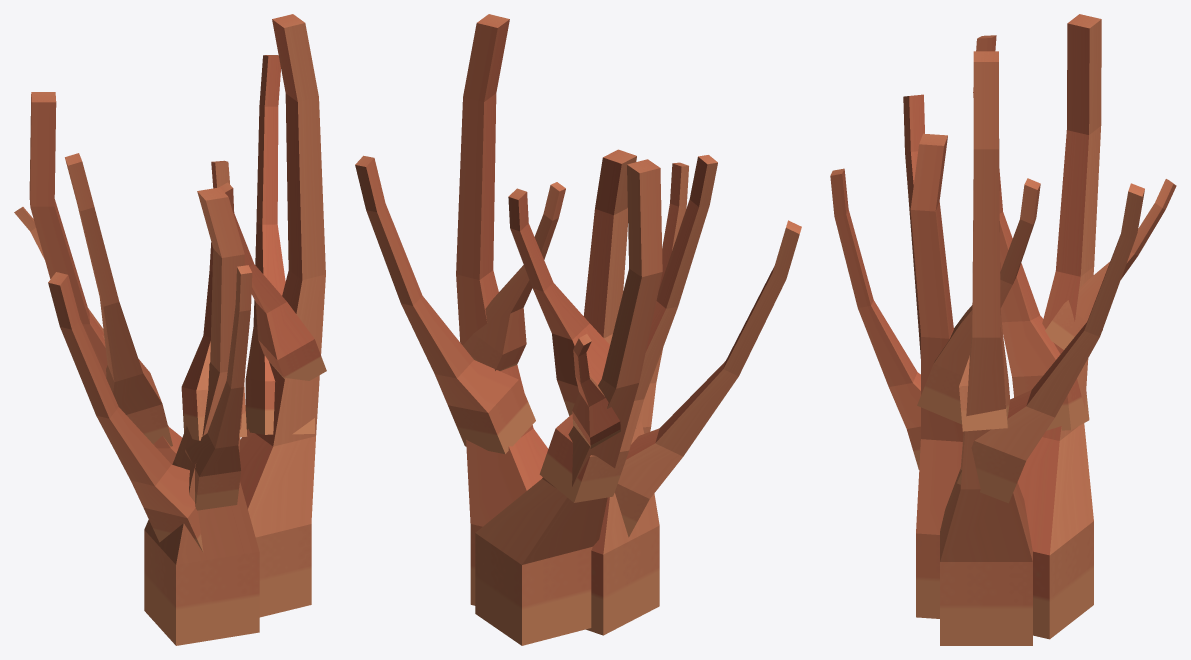
The model's file is Coral2.fbx.
3 renders of one model, left to right at view 1: azimuth 30°, elevation 25°; view 2: azimuth 150°, elevation 25°; view 3: azimuth 270°, elevation 25°, orthographic. The views are drawn at different scales.
Parts seen in each view (by area): view 1: Coral; view 2: Coral; view 3: Coral.
Part boxes in pixels (bbox=[...]): Coral: bbox=[14, 14, 326, 645]; Coral: bbox=[355, 14, 801, 645]; Coral: bbox=[830, 14, 1176, 645].
Size of the model in its own units: 0.6029 by 0.977 by 0.5172.
